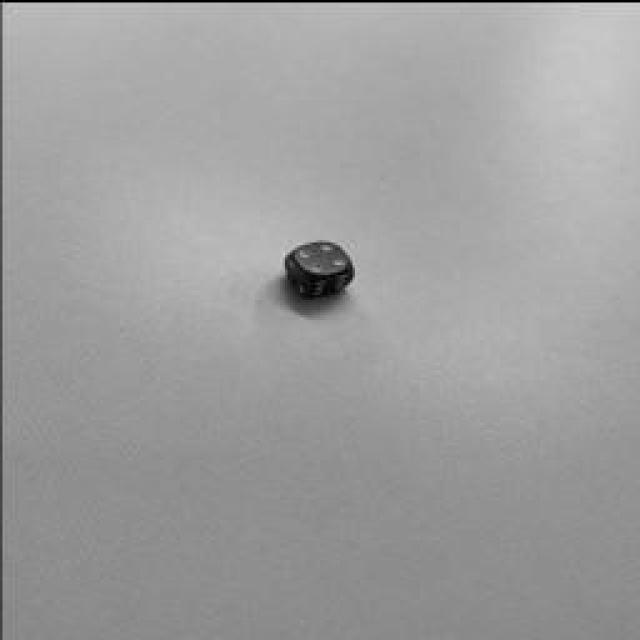dice_4: (294, 239, 348, 271)
